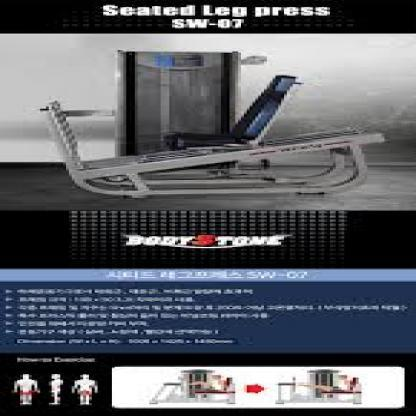leg press: (5, 47, 416, 198)
